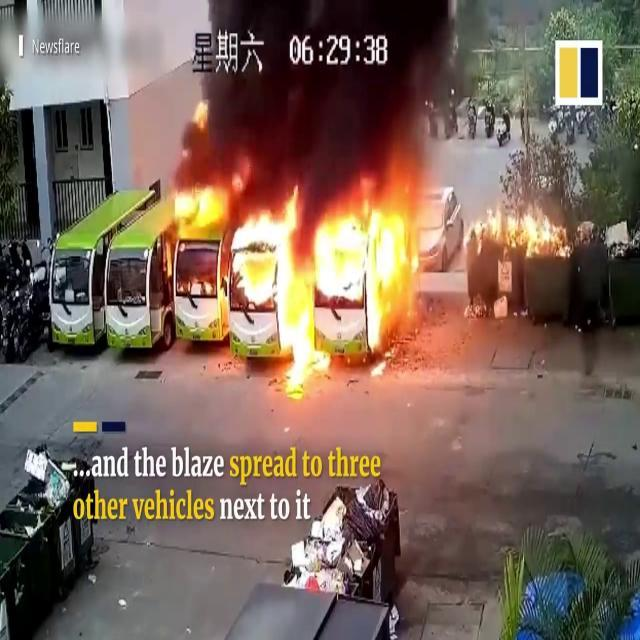Fire: (120, 0, 452, 191), (170, 171, 410, 374), (465, 200, 561, 250)
Smoke: (119, 0, 452, 186)
